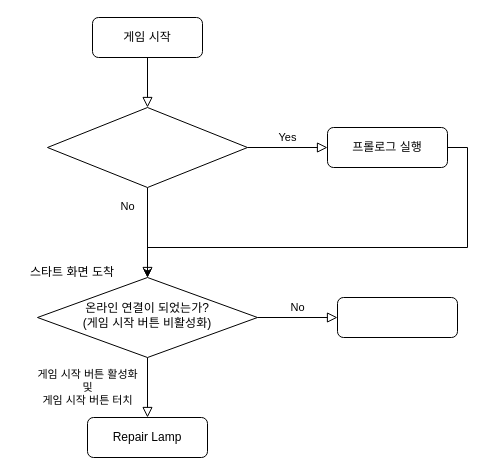
Some shapes in this 493 by 475 pixel diagram are drawn without their labels. The centre of each missing label's shape, as x and y in pixels:
게임 시작 불가능 (재접속 요망): point (397, 317)
게임을 처음 실행하는가?: point (147, 147)
